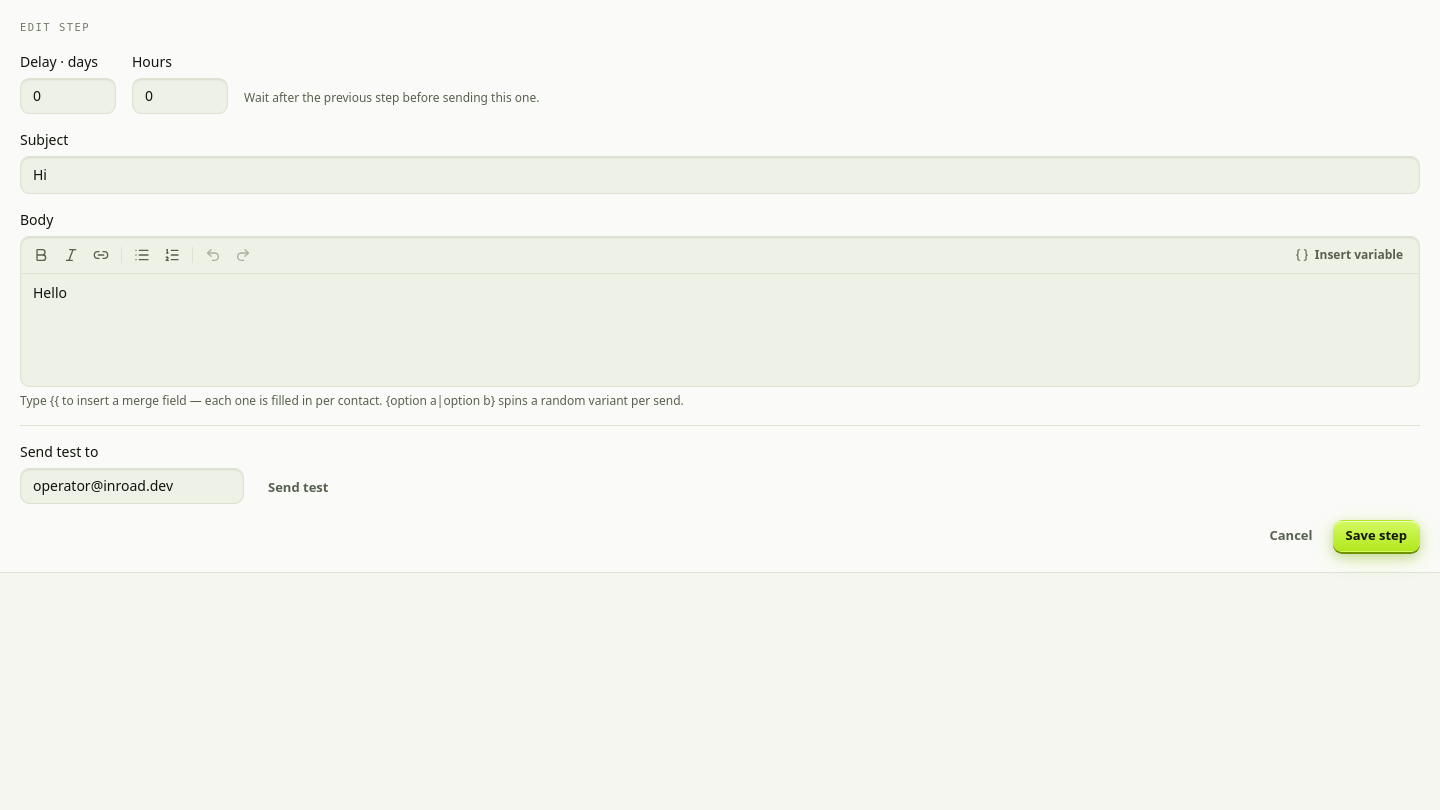
Test: sending a test posts the step id + address and shows the queued copy, not "sent"
Click the button "Send test" at (298, 488), box [256,472,340,504]
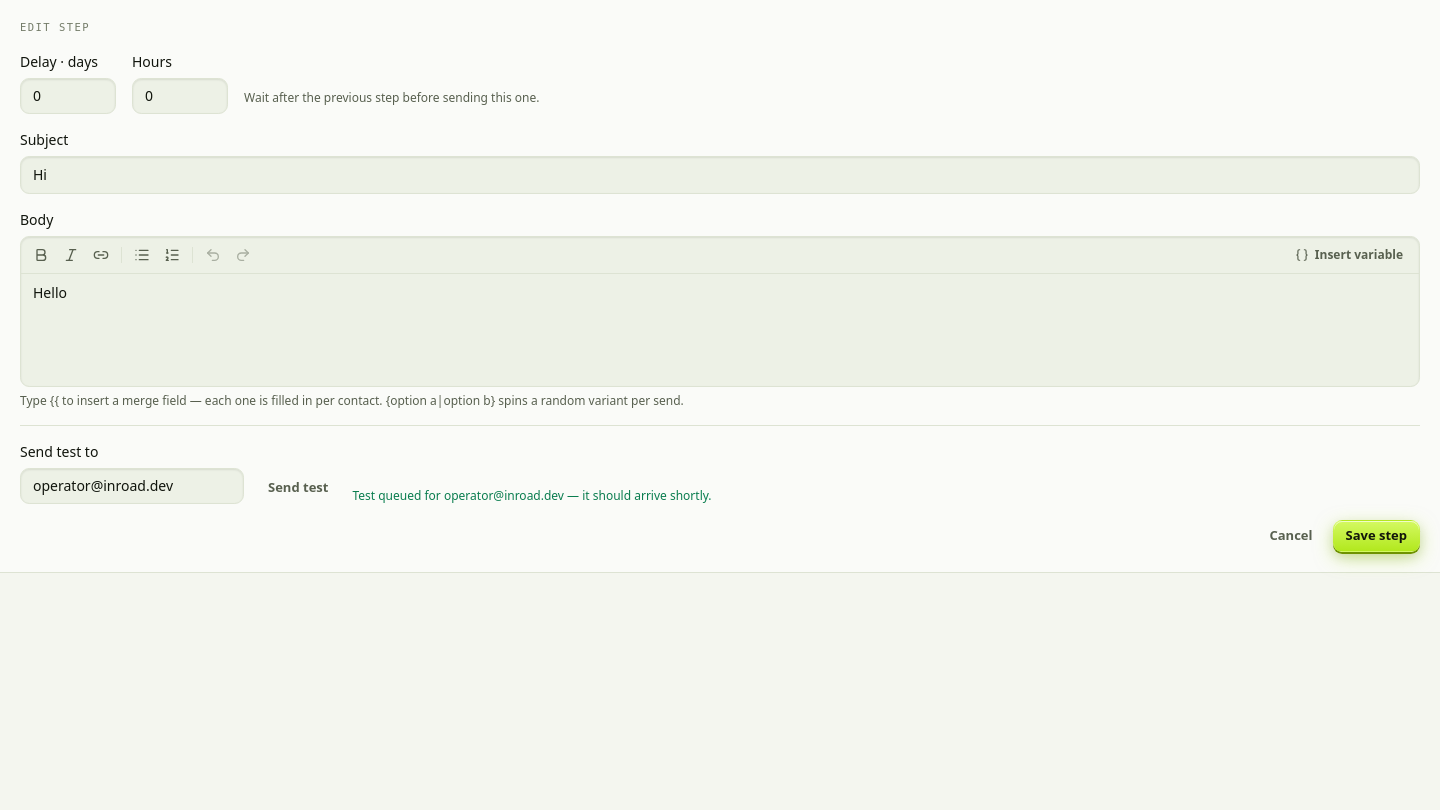
Result: the text "Test queued for operator@inroad.dev — it should arrive shortly." is shown at [352,488,712,504]
